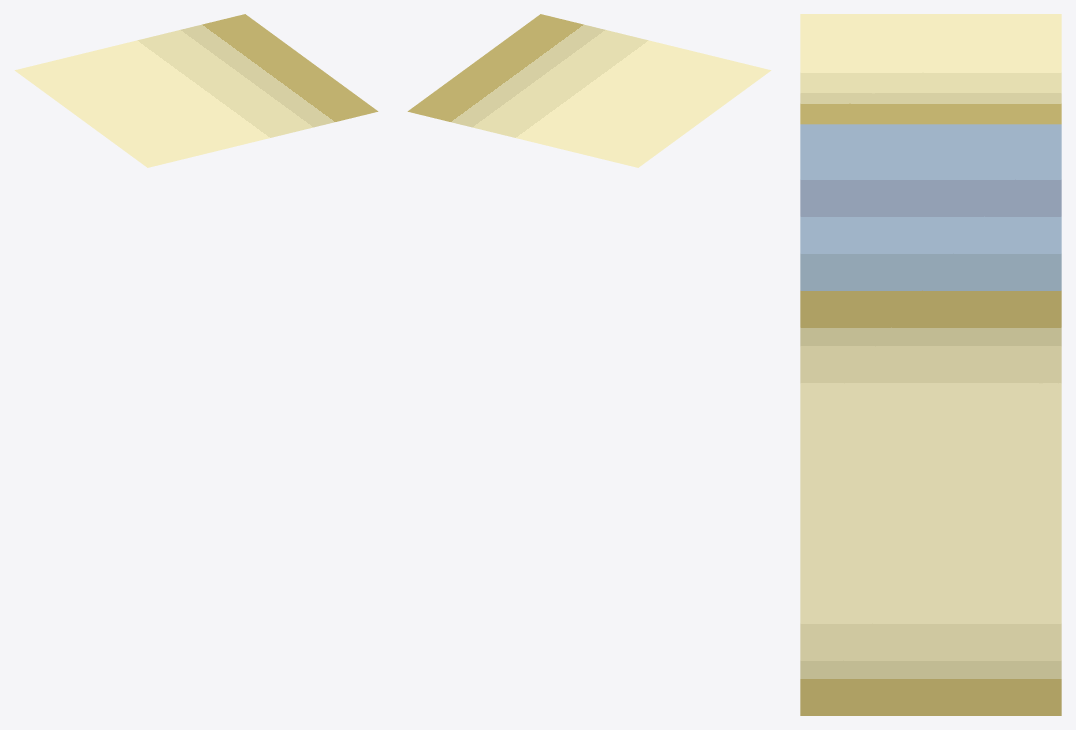
The picture shows the model from 3 angles, left to right: view 1: azimuth 30°, elevation 25°; view 2: azimuth 150°, elevation 25°; view 3: azimuth 270°, elevation 25°; orthographic projection. The views are drawn at different scales.
Bounding box in the file's own units: 1 × 2.5 × 1.
Materials: 1 (1 with a texture image).
